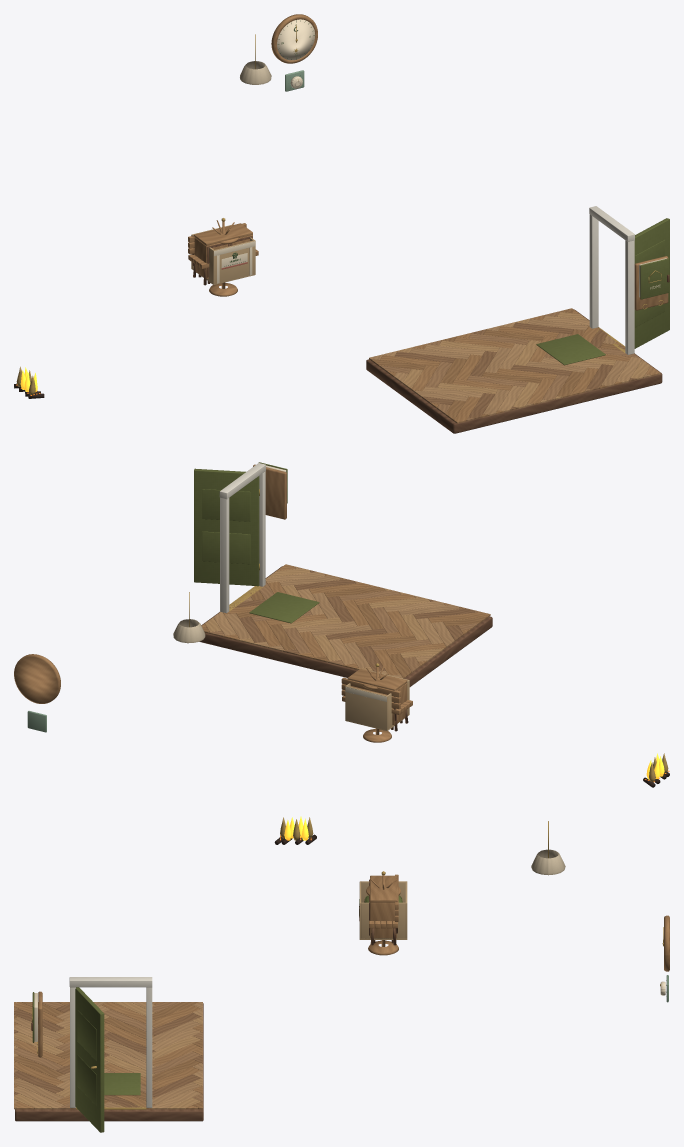
Rendered from tidy-moving-home.glb.
3 renders of one model, top to bottom at view 1: azimuth 30°, elevation 25°; view 2: azimuth 150°, elevation 25°; view 3: azimuth 270°, elevation 25°, orthographic. The views are drawn at different scales.
Parts seen in each view (by area): view 1: entryway_mesh, Entry open door_mesh, house_clock_mesh, movingbox-furniture_mesh, shoecabinet_mesh, house_journal_cover_mesh, house_journal_mesh, room_pendant_mesh; view 2: entryway_mesh, Entry open door_mesh, movingbox-furniture_mesh, house_clock_mesh, house_journal_mesh, shoecabinet_mesh, gardenbench_mesh, room_pendant_mesh; view 3: entryway_mesh, Entry open door_mesh, shoecabinet_mesh, movingbox-furniture_mesh, room_pendant_mesh, house_journal_mesh, gardenbench_mesh, coatrack_mesh.
Part boxes in pixels (x1=…): entryway_mesh: x1=366, y1=206, x2=662, y2=433; Entry open door_mesh: x1=634, y1=218, x2=669, y2=348; house_clock_mesh: x1=271, y1=14, x2=317, y2=63; movingbox-furniture_mesh: x1=191, y1=224, x2=255, y2=284; shoecabinet_mesh: x1=194, y1=223, x2=252, y2=283; house_journal_cover_mesh: x1=640, y1=258, x2=668, y2=299; house_journal_mesh: x1=634, y1=256, x2=669, y2=310; room_pendant_mesh: x1=240, y1=34, x2=271, y2=84; entryway_mesh: x1=199, y1=463, x2=492, y2=686; Entry open door_mesh: x1=194, y1=468, x2=259, y2=586; movingbox-furniture_mesh: x1=345, y1=670, x2=409, y2=730; house_clock_mesh: x1=14, y1=654, x2=60, y2=703; house_journal_mesh: x1=253, y1=464, x2=286, y2=519; shoecabinet_mesh: x1=347, y1=668, x2=407, y2=729; gardenbench_mesh: x1=341, y1=677, x2=412, y2=731; room_pendant_mesh: x1=173, y1=592, x2=205, y2=643; entryway_mesh: x1=14, y1=977, x2=203, y2=1121; Entry open door_mesh: x1=75, y1=987, x2=104, y2=1132; shoecabinet_mesh: x1=369, y1=875, x2=396, y2=943; movingbox-furniture_mesh: x1=359, y1=881, x2=407, y2=939; room_pendant_mesh: x1=531, y1=821, x2=565, y2=875; house_journal_mesh: x1=31, y1=991, x2=42, y2=1057; gardenbench_mesh: x1=369, y1=874, x2=398, y2=945; coatrack_mesh: x1=368, y1=871, x2=398, y2=955.
Bounding box in the file's own units: 3.32 × 1.17 × 3.17.
29 materials, 25 textured.
